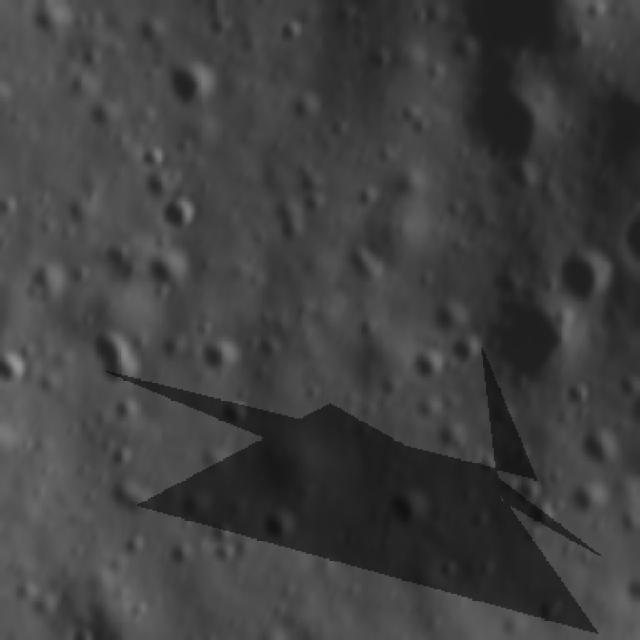crater: (442, 70, 563, 181), (466, 293, 582, 390), (444, 5, 581, 61), (578, 76, 640, 175), (540, 243, 617, 309), (81, 325, 144, 400), (153, 60, 225, 114), (378, 480, 436, 537), (195, 331, 250, 382), (137, 256, 195, 301), (576, 425, 624, 470), (517, 498, 565, 537), (160, 198, 208, 235), (617, 203, 640, 280), (262, 507, 301, 550), (0, 346, 35, 389), (208, 400, 255, 432), (159, 544, 201, 571), (108, 398, 144, 429), (210, 518, 236, 551), (212, 545, 250, 567), (626, 471, 640, 518), (0, 426, 15, 466), (631, 392, 640, 439)
